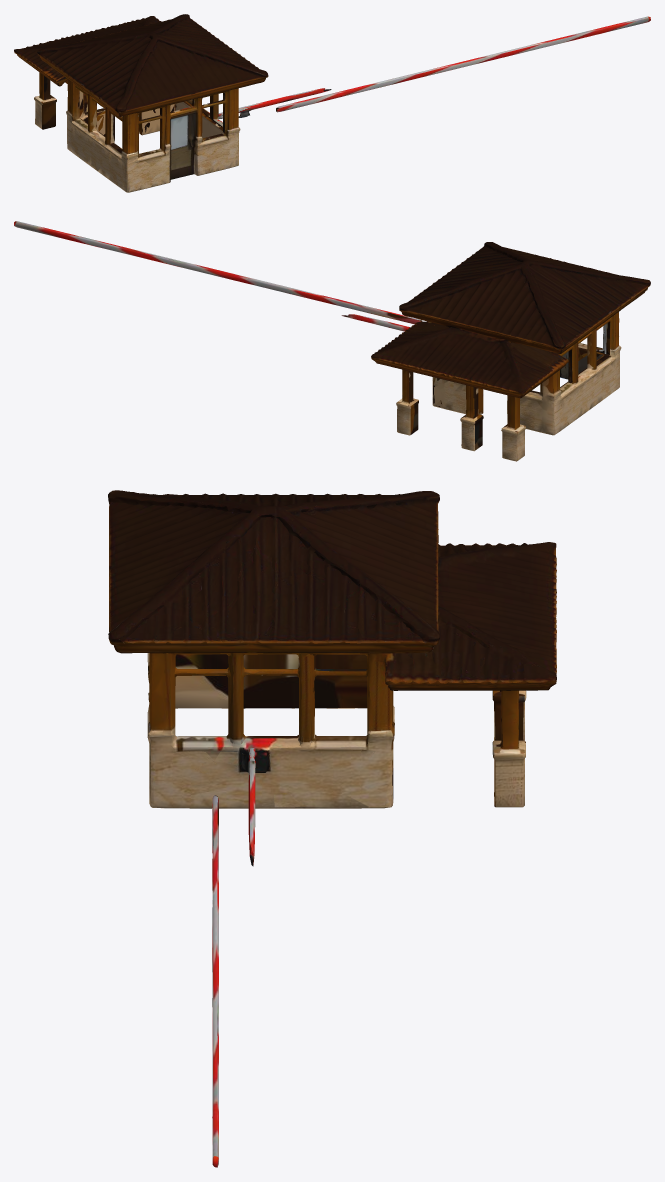
The model's file is gatehouse.glb.
3 views of the same model, one above another, from view 1: azimuth 30°, elevation 25°; view 2: azimuth 150°, elevation 25°; view 3: azimuth 270°, elevation 25° (orthographic). The views are drawn at different scales.
Visible parts, largest first — view 1: textured_mesh; view 2: textured_mesh; view 3: textured_mesh.
Part boxes in pixels (x1,y1,x2,y2): textured_mesh: (14,14,650,192); textured_mesh: (14,221,650,461); textured_mesh: (108,490,556,1167).
Bounding box in the file's own units: 4.41 × 0.9332 × 1.53.
Materials: 1 (1 with a texture image).
